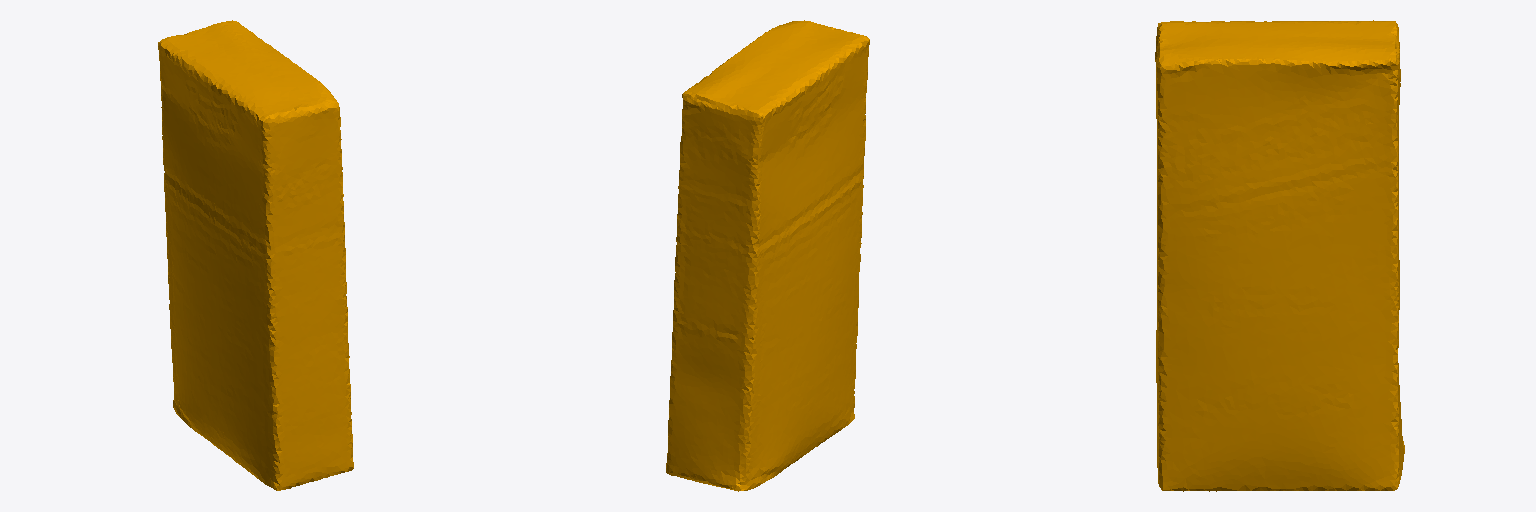
The robot description file, URDF, robot "sugar_box":
<?xml version="1.0"?>
<robot name="sugar_box">
  <link name="sugar_box">
    <contact>
      <friction_anchor/>
      <lateral_friction value="0.6"/>
      <spinning_friction value="0.0005"/>
      <rolling_friction value="0.0005"/>
      <contact_cfm value="0.0"/>
      <contact_erp value="1.0"/>
    </contact>
    <visual>
      <origin xyz="0.0 0.0 0.0"/>
      <geometry>
        <mesh filename="textured_simple.obj" scale="1.0 1.0 1.0"/>
      </geometry>
    </visual>
    <collision>
      <origin xyz="0.0 0.0 0.0"/>
      <geometry>
        <mesh filename="textured_simple.obj" scale="1.0 1.0 1.0"/>
      </geometry>
    </collision>
    <inertial>
      <mass value="0.514"/> 
      <inertia ixx="0.0001" ixy="0.0" ixz="0.0" iyy="0.0001" iyz="0.0" izz="0.0001"/>
    </inertial>
  </link>
</robot>

--- Render facts (derived) ---
3 views of the same robot in one strip: view 1: azimuth 30°, elevation 25°; view 2: azimuth 150°, elevation 25°; view 3: azimuth 270°, elevation 25° (orthographic).
Model sugar_box with 1 links and 0 joints (none), rooted at sugar_box, posed every joint at zero.
Visible links, largest first — view 1: sugar_box; view 2: sugar_box; view 3: sugar_box.
Boxes of the visible links, x1=… form: sugar_box: x1=158, y1=20, x2=353, y2=490; sugar_box: x1=666, y1=20, x2=869, y2=491; sugar_box: x1=1155, y1=20, x2=1404, y2=491.
Size in the robot's own frame: 0.0479 by 0.0929 by 0.1765 metres.
Meshes: 1 distinct files referenced, 1 mesh visuals loaded (1 OBJ).